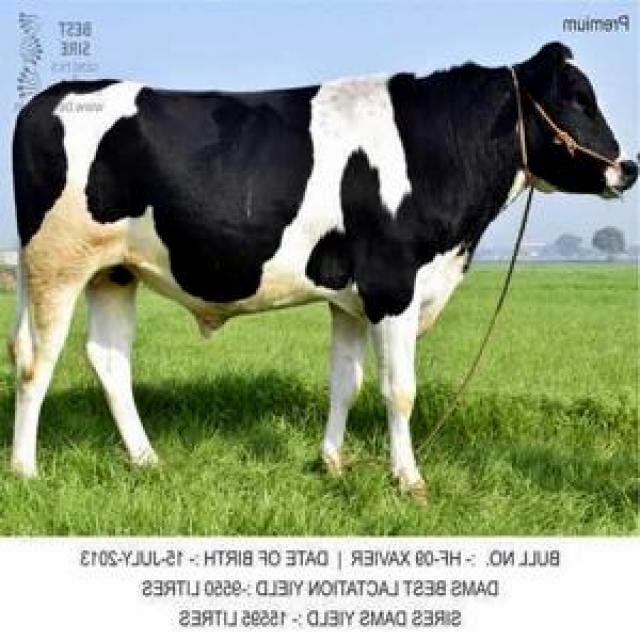COW: (12, 42, 638, 494)
